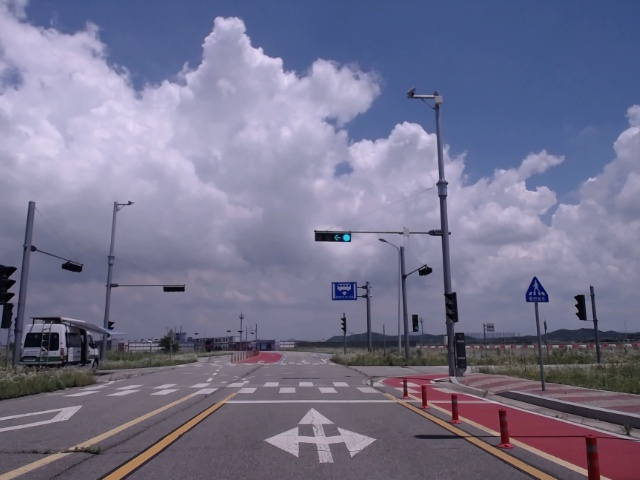all_green_4: (315, 231, 353, 242)
